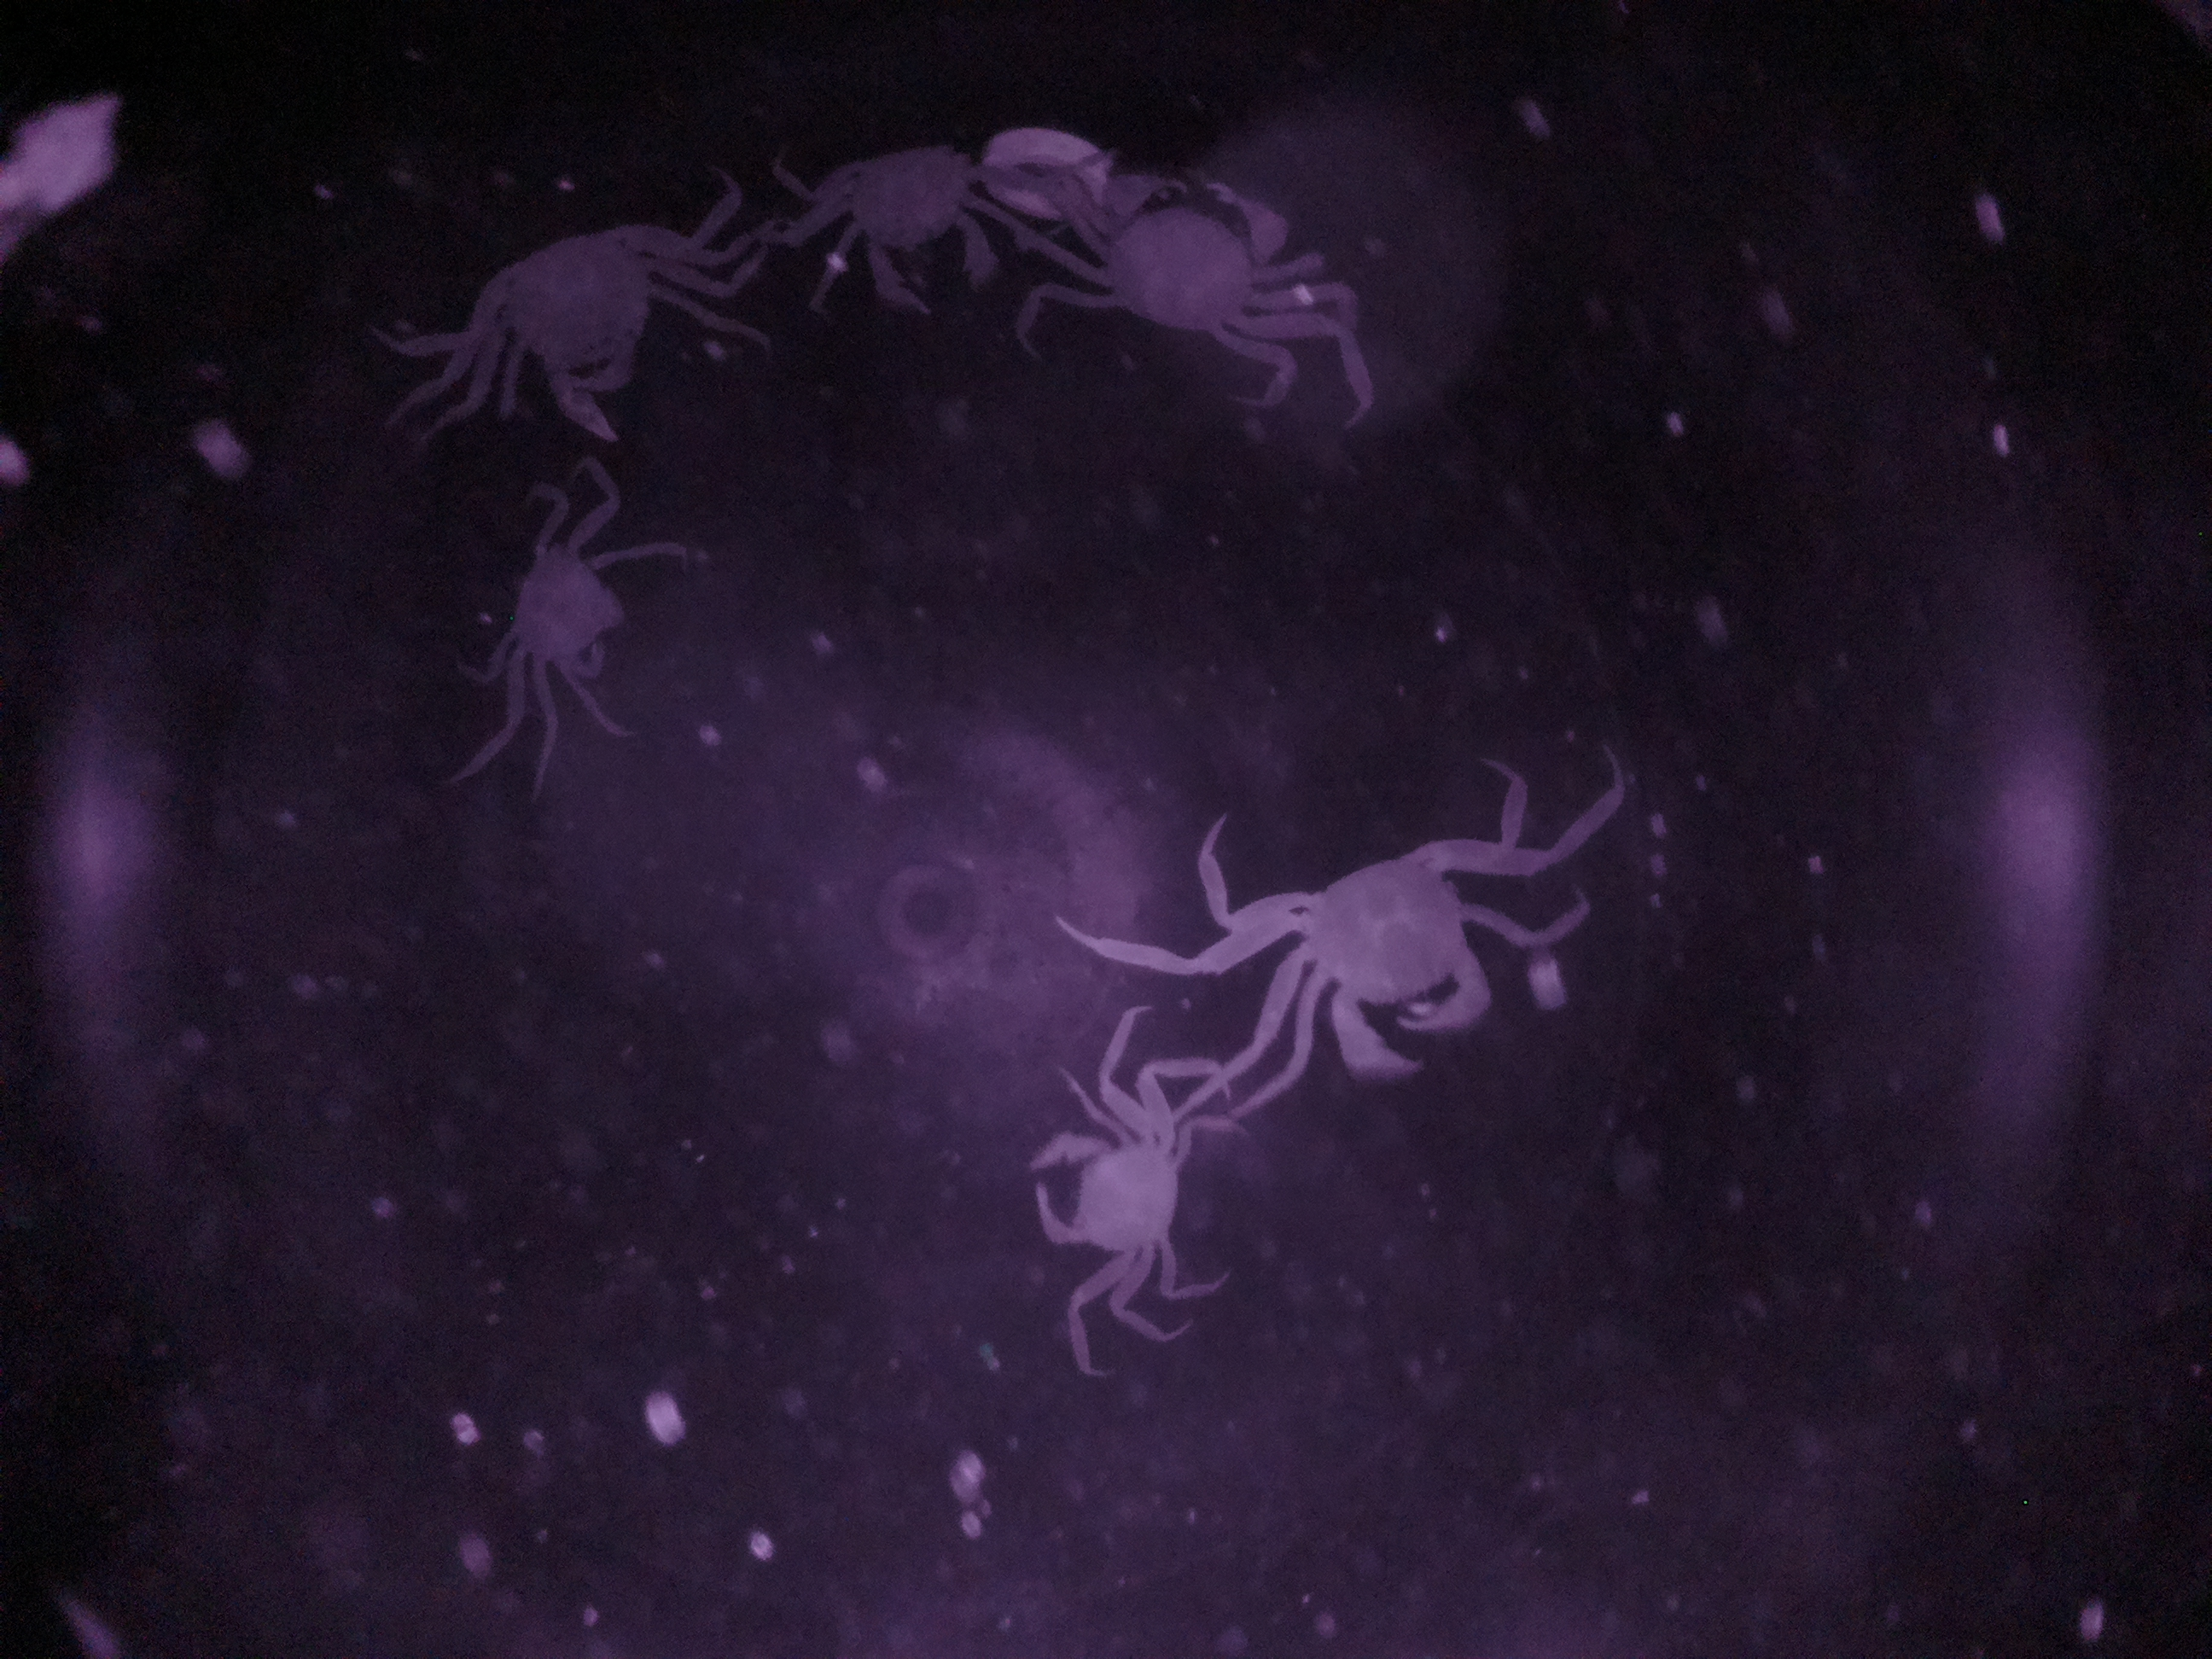Crab: (1251, 826, 1507, 1103), (460, 193, 697, 458), (1066, 166, 1345, 342), (1021, 1063, 1198, 1309), (820, 99, 1007, 328), (489, 500, 651, 708)
